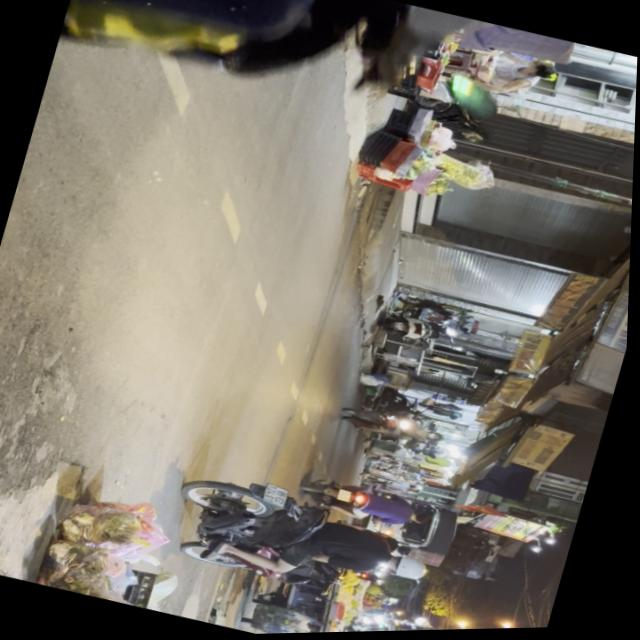helmet: (392, 552, 435, 584)
licenseplate: (57, 0, 640, 202), (167, 459, 451, 618)
nohelmet: (267, 484, 294, 510)
